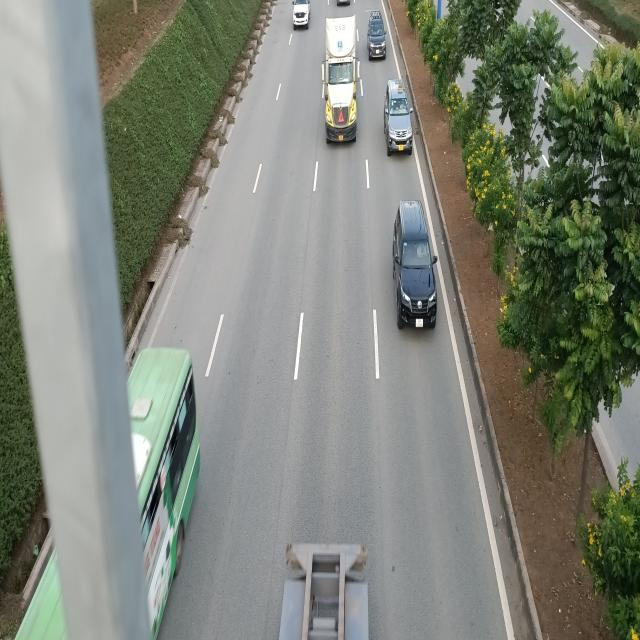car: (394, 202, 440, 331), (382, 78, 412, 154), (366, 11, 386, 62)
container: (322, 16, 360, 143)
